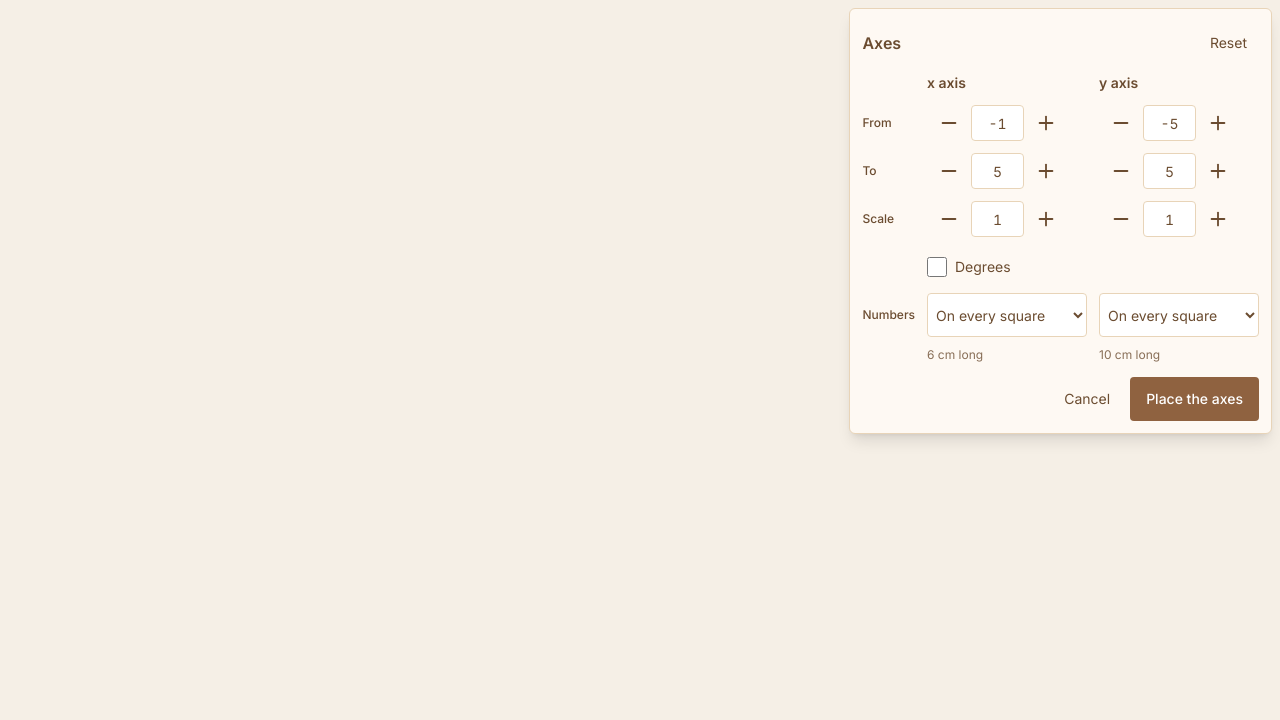
AxesPanel › keeps 0 on the axis, greying out the button that would leave it
Click the 1st button named "One square higher". click: (1046, 123)
box: 1024,101 -> 1068,145
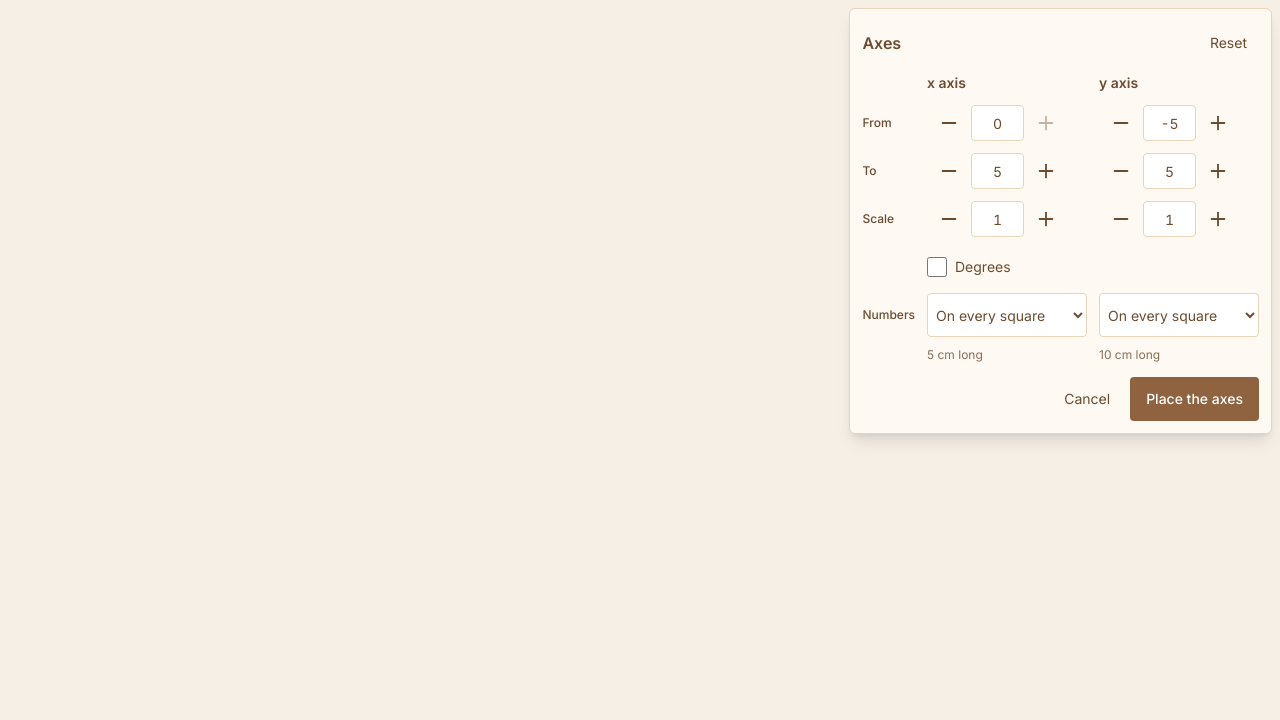
Expected: the 1st field named "From" holds "0", 971,105 -> 1024,141
Expected: the 1st button named "One square higher" is disabled, 1024,101 -> 1068,145
